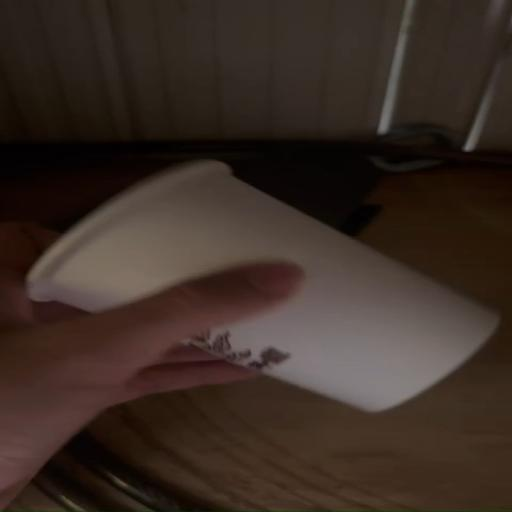Ly_giay: (28, 160, 498, 411)
